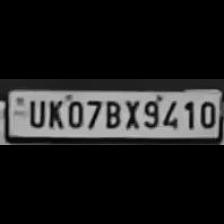0: (196, 98, 216, 130), (64, 97, 84, 128)
1: (179, 98, 195, 130)
4: (160, 98, 180, 130)
7: (84, 98, 102, 130)
9: (139, 96, 159, 130)
B: (101, 97, 121, 128)
K: (44, 98, 64, 130)
U: (25, 97, 45, 128)
X: (122, 98, 140, 130)
